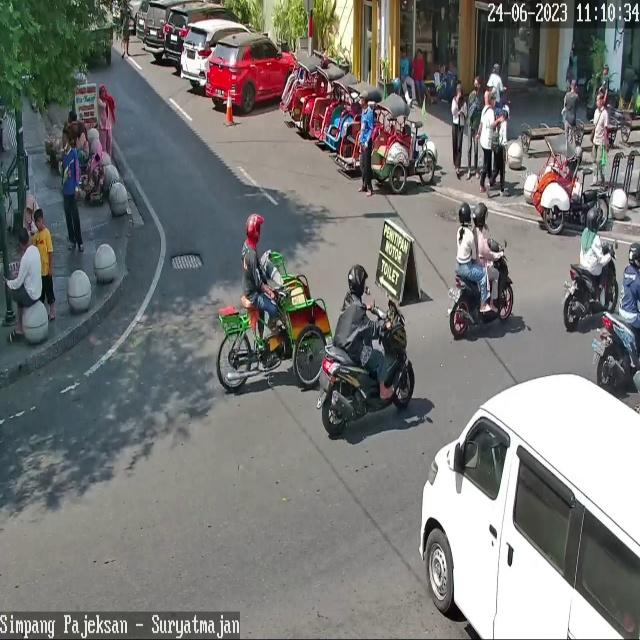bus: (318, 299, 416, 436), (449, 236, 514, 338), (563, 240, 619, 332), (592, 308, 640, 387)
motorcycle: (419, 373, 640, 639), (206, 33, 300, 112), (163, 4, 246, 64), (181, 21, 252, 88), (143, 0, 169, 53)
